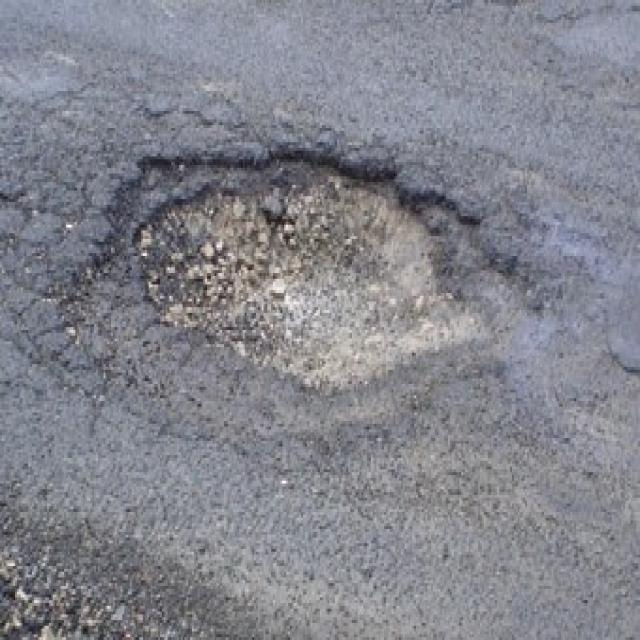pothole: (105, 85, 532, 445)
